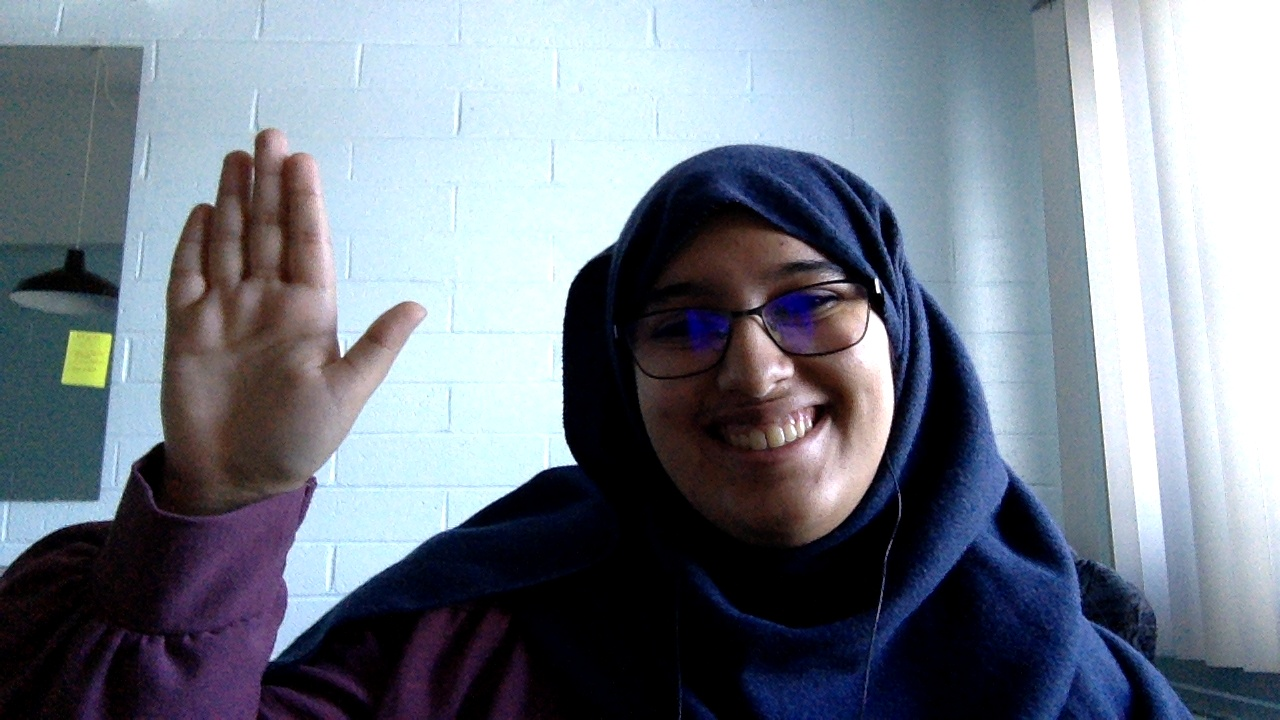Hello: (155, 125, 432, 497)
